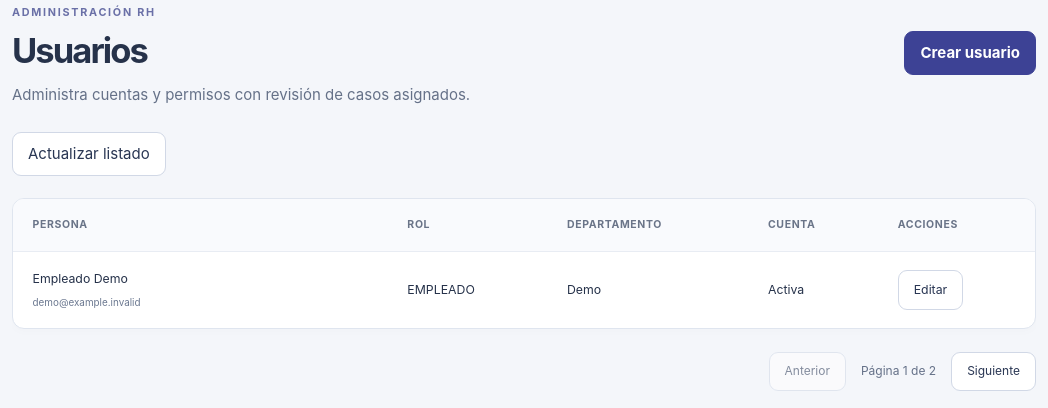
Test: pagina el directorio en servidor
The image size is (1048, 408).
Expected: the button with aria-label "Editar Empleado Demo" is shown, [898,270,963,310]
Step 1. Click the button "Siguiente" → (994, 371), box [951,352,1036,391]
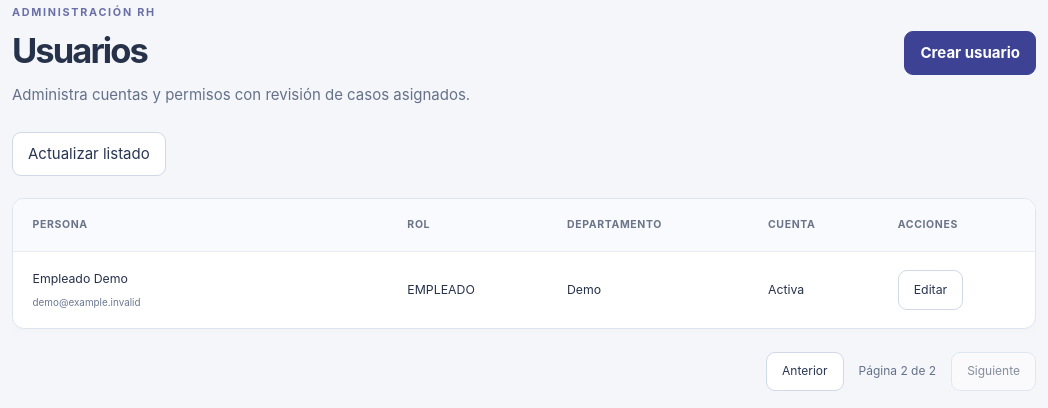
Expected: the text "Página 2 de 2" is shown, [858,362,936,380]
